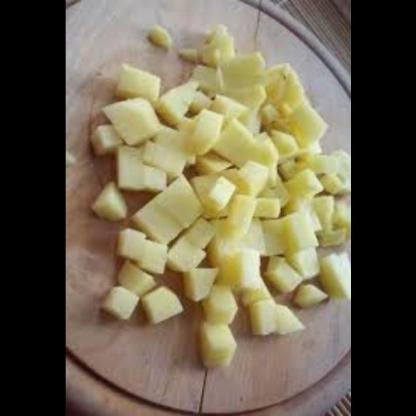potato: (89, 17, 352, 383)
